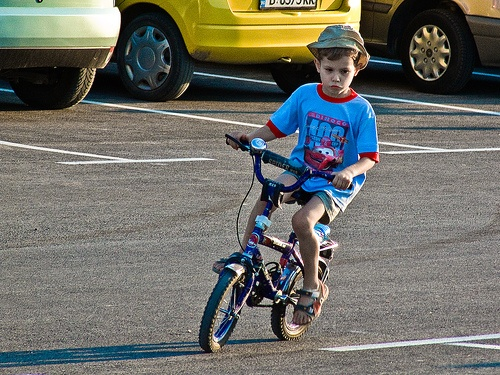head: (306, 25, 372, 96)
person: (227, 18, 376, 314)
